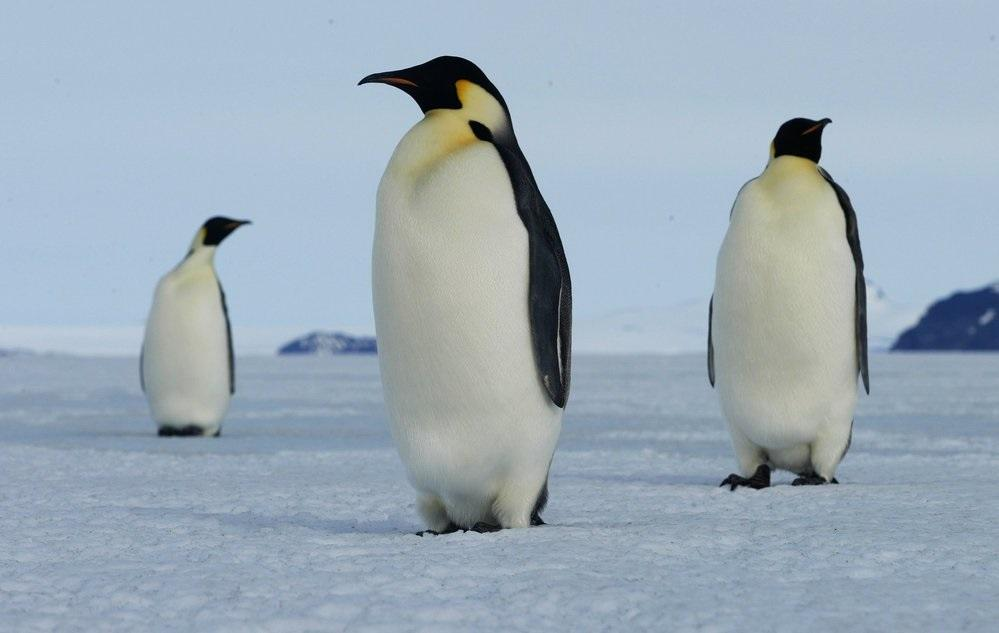emporer: (315, 36, 598, 554), (682, 94, 892, 503), (128, 180, 257, 450)
